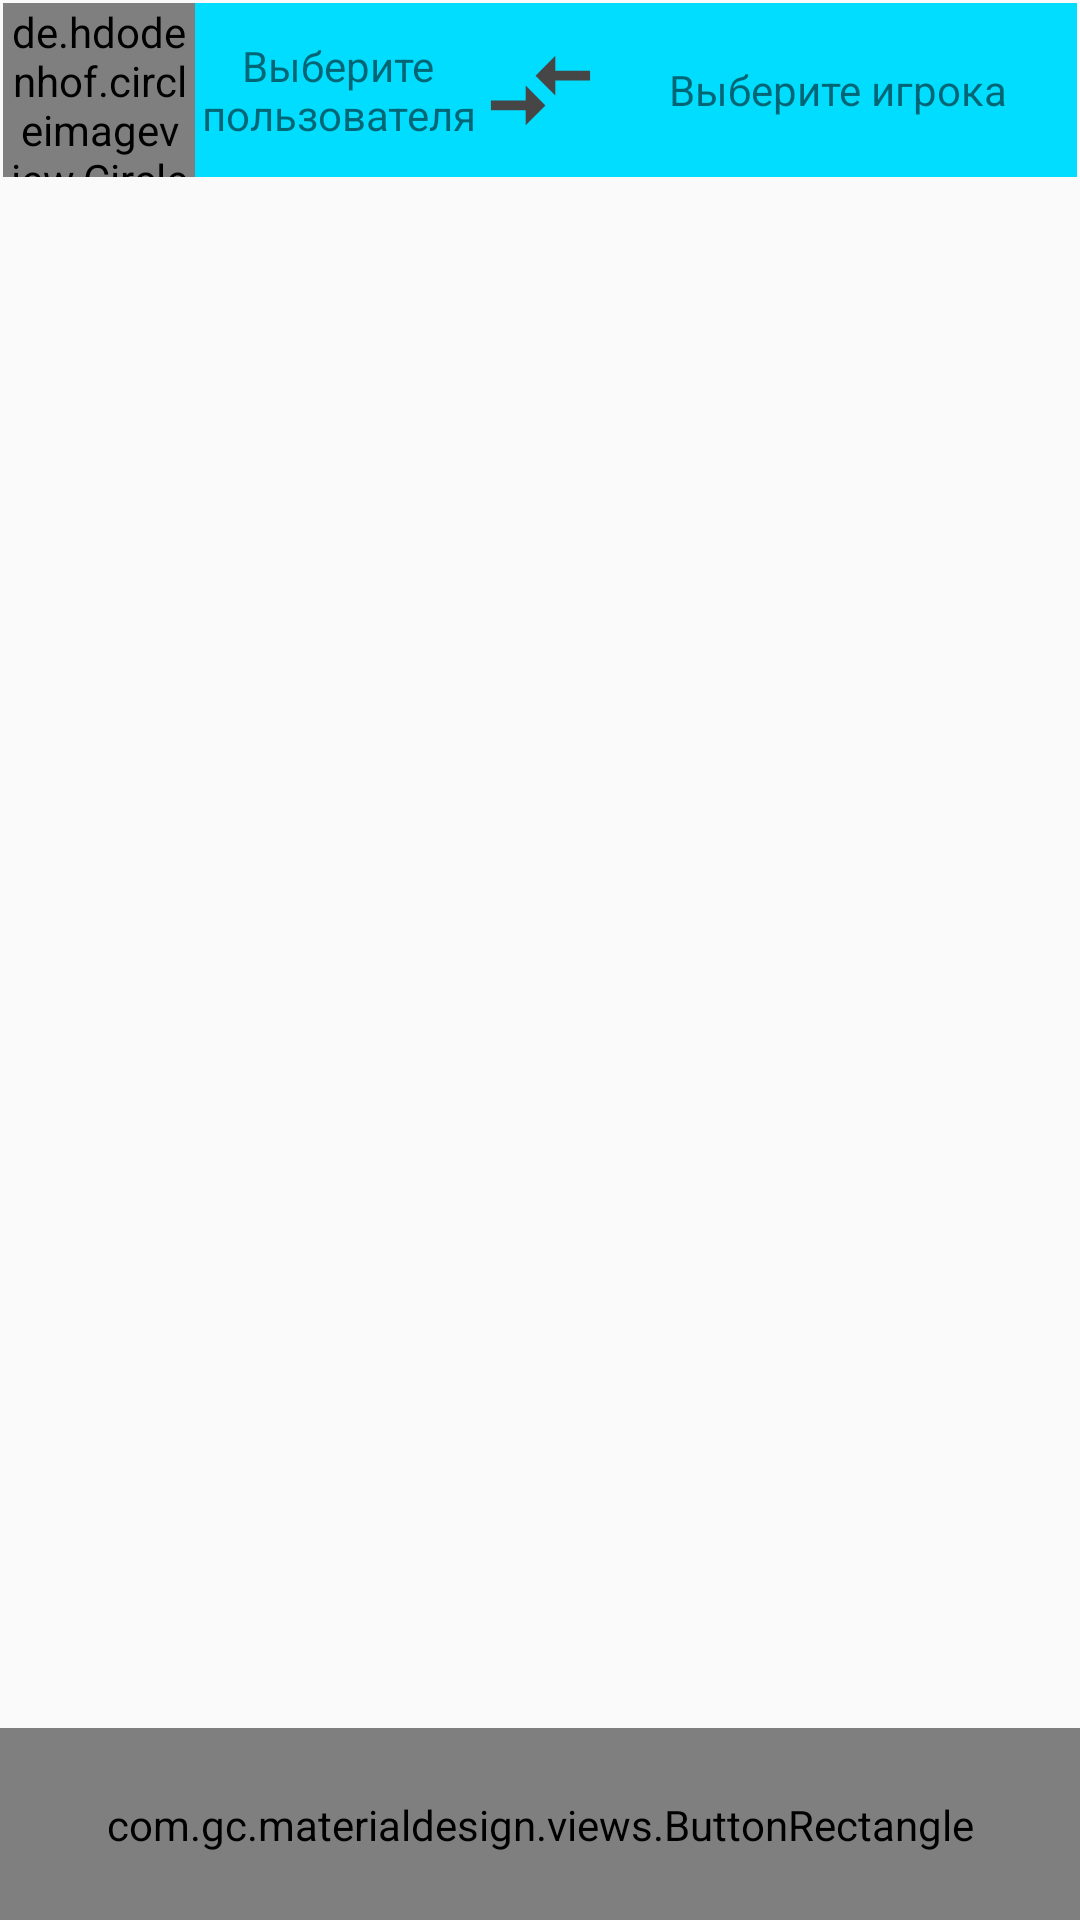

Where to tap for icons on this 1080x1920 app screen, as (x,y):
compare arrows: (540,90)
